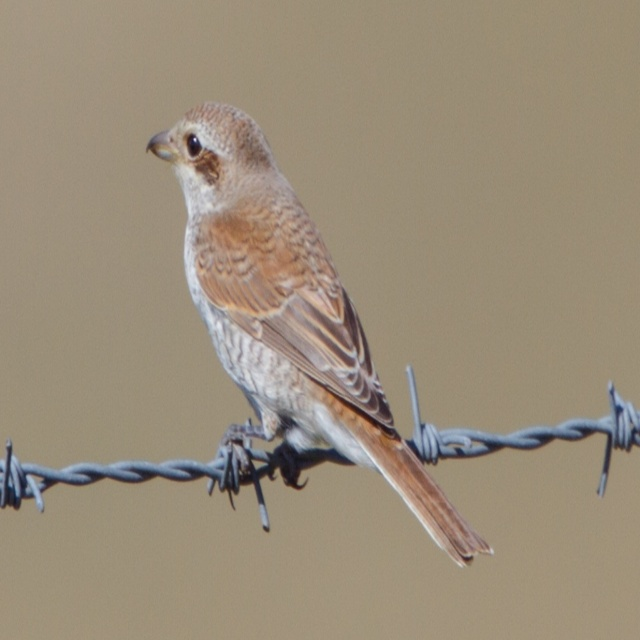Sparrow: (146, 102, 494, 570)
